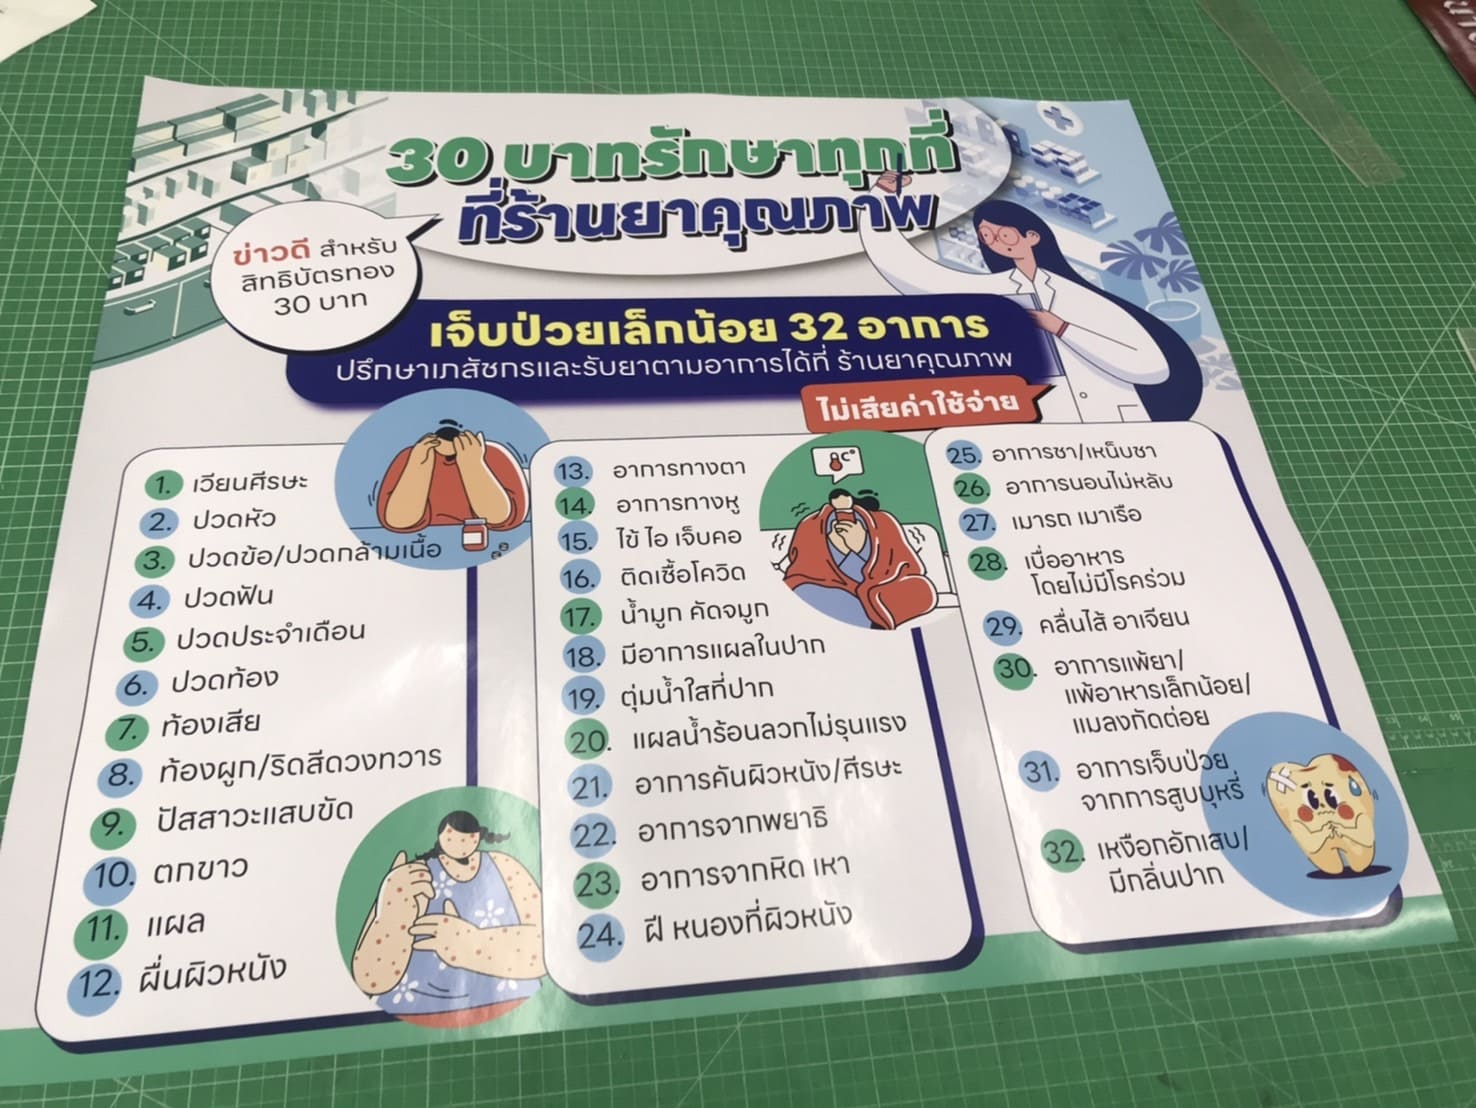text: (376, 108, 966, 204), (456, 184, 945, 251), (333, 343, 838, 386), (427, 303, 779, 350), (157, 739, 443, 787), (629, 704, 908, 753), (632, 750, 903, 796), (662, 889, 856, 944), (638, 847, 852, 893), (185, 534, 443, 571), (1074, 768, 1249, 823), (154, 791, 354, 834), (1060, 665, 1253, 709), (814, 383, 1021, 424), (133, 942, 290, 995), (636, 803, 829, 845), (618, 628, 826, 666), (173, 615, 367, 652), (618, 667, 776, 712), (1071, 740, 1232, 783), (1035, 596, 1193, 639), (1093, 819, 1251, 862), (1027, 560, 1187, 599), (237, 256, 397, 294), (1102, 851, 1229, 899), (1002, 466, 1175, 498), (1067, 699, 1212, 738), (618, 594, 769, 628), (1049, 642, 1186, 680), (988, 436, 1159, 466), (831, 346, 1015, 372), (851, 308, 989, 343), (1008, 499, 1144, 533), (617, 555, 747, 588), (612, 520, 743, 551), (168, 661, 281, 695), (158, 704, 262, 740), (187, 466, 310, 496), (149, 851, 250, 887), (1020, 541, 1127, 573), (610, 456, 747, 481), (613, 491, 741, 517), (180, 578, 276, 612), (229, 232, 317, 268), (307, 229, 399, 261), (190, 503, 278, 532), (141, 905, 208, 940), (785, 308, 850, 343), (569, 861, 619, 903), (572, 912, 623, 953), (1038, 831, 1083, 871), (74, 963, 118, 1002), (80, 909, 125, 947), (570, 817, 616, 851), (311, 287, 369, 313), (992, 651, 1035, 684), (91, 858, 134, 892), (1019, 752, 1058, 787), (565, 726, 610, 757), (567, 770, 609, 803), (270, 290, 317, 317), (560, 640, 598, 672), (967, 547, 1006, 577), (982, 611, 1020, 639), (558, 563, 592, 592), (565, 684, 599, 712), (558, 527, 591, 552), (98, 809, 126, 838), (554, 459, 587, 483), (105, 760, 133, 787), (134, 587, 163, 612), (121, 674, 151, 698), (645, 915, 669, 940), (141, 548, 166, 571), (963, 512, 989, 533), (956, 478, 984, 498), (146, 509, 169, 532), (568, 605, 591, 627), (116, 718, 139, 741), (130, 633, 151, 651), (826, 450, 849, 467)
